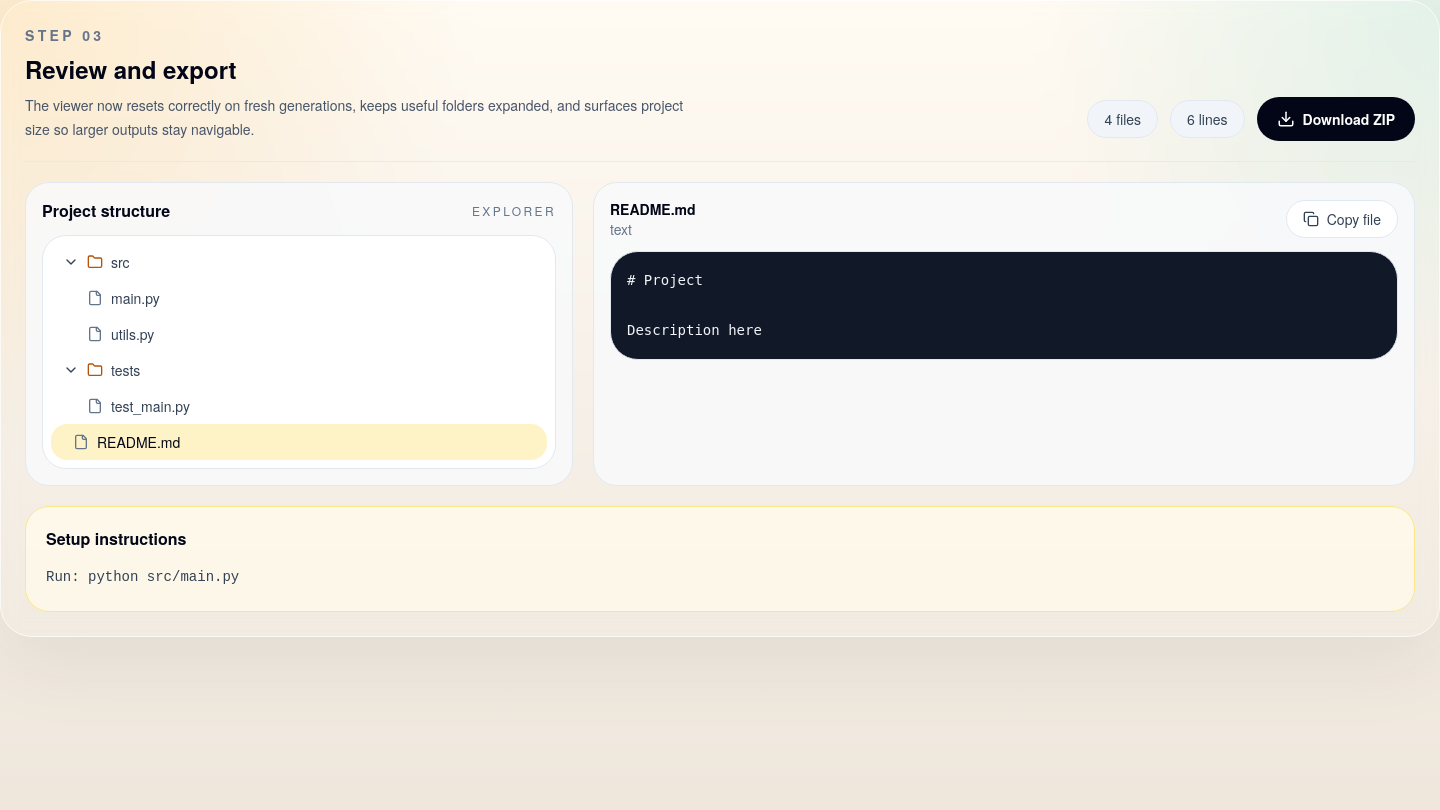
Test: ProjectViewer Component › File Selection › should change selected file on click
Click the button "main.py".
click(135, 298)  # box [51, 280, 547, 316]
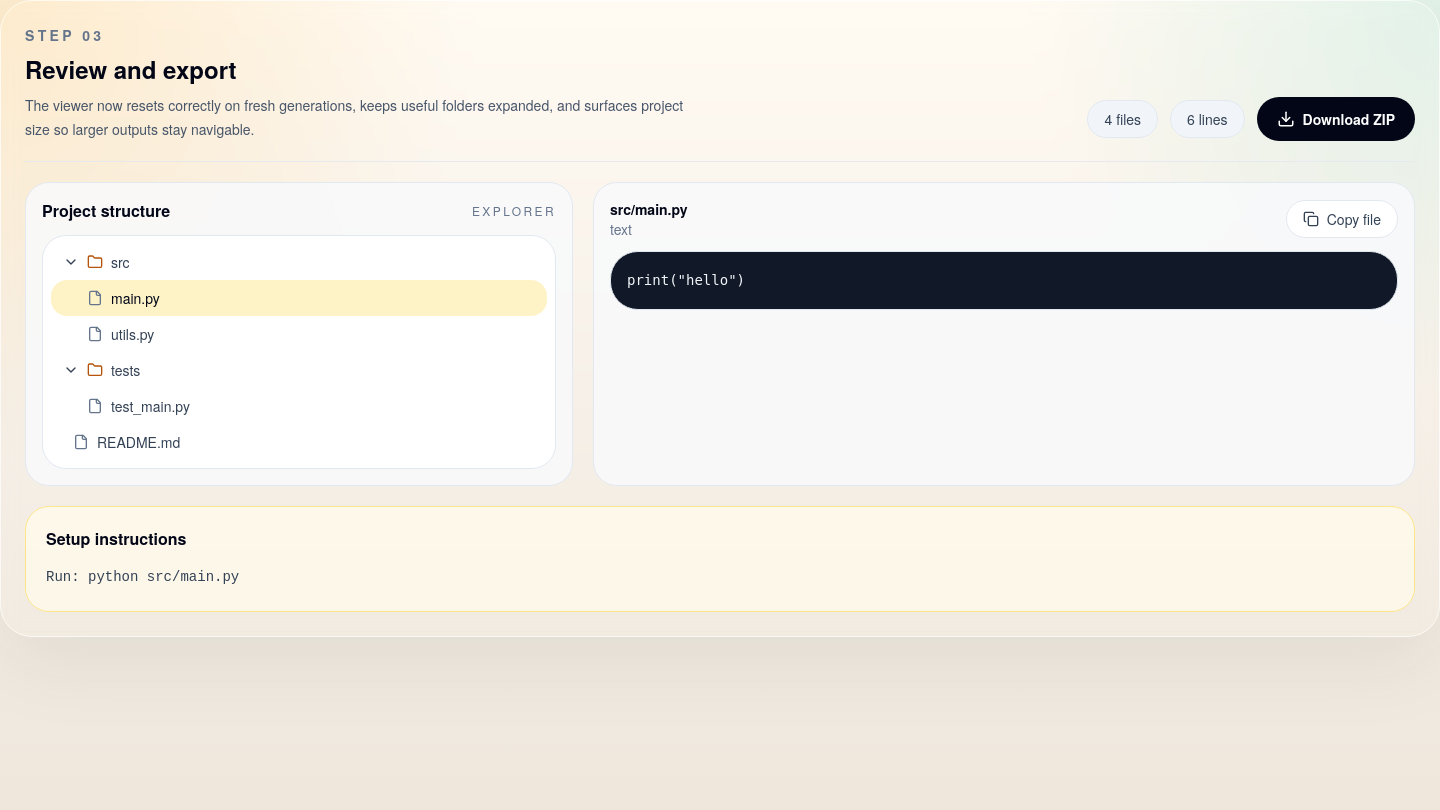
Now the text "print(\"hello\")" is shown, box [627, 272, 745, 288]
